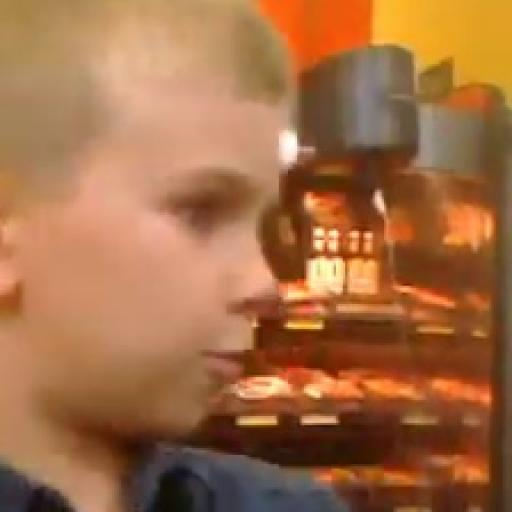Autism: (6, 3, 306, 467)
